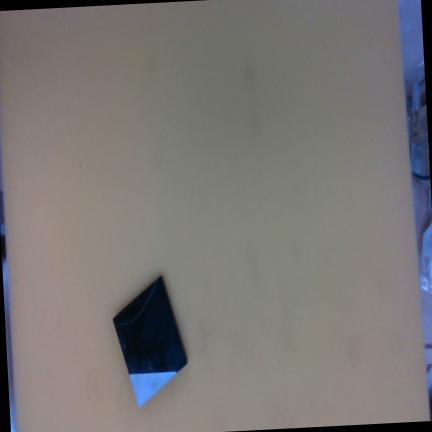tile: (105, 274, 196, 408)
